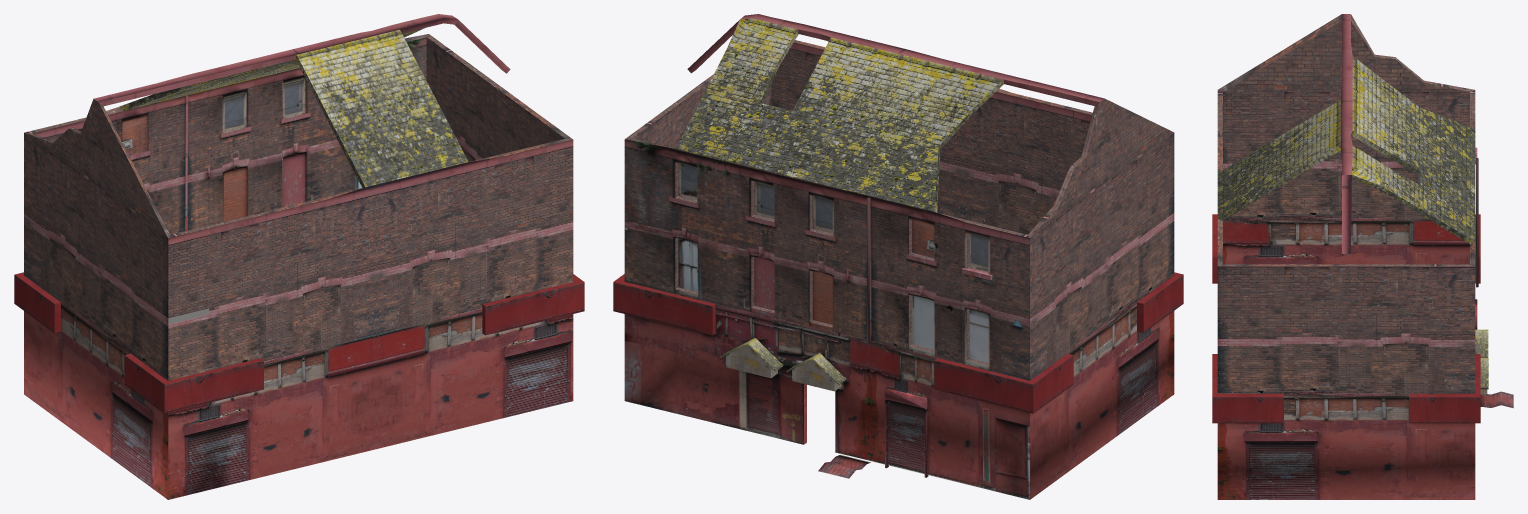
File: building11.obj
3 renders of one model, left to right at view 1: azimuth 30°, elevation 25°; view 2: azimuth 150°, elevation 25°; view 3: azimuth 270°, elevation 25°, orthographic. The views are drawn at different scales.
Visible parts, largest first — view 1: material25; view 2: material25; view 3: material25.
Boxes of the visible parts, <box> form: material25: <box>14,14,584,499</box>; material25: <box>613,14,1183,499</box>; material25: <box>1212,14,1513,499</box>.
Bounding box in the file's own units: 589 × 468 × 410.
Materials: 1 (1 with a texture image).
